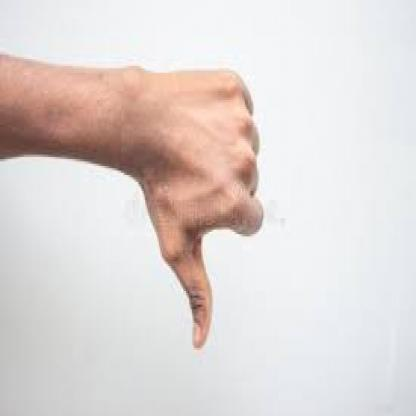thumb_down: (137, 61, 268, 352)
